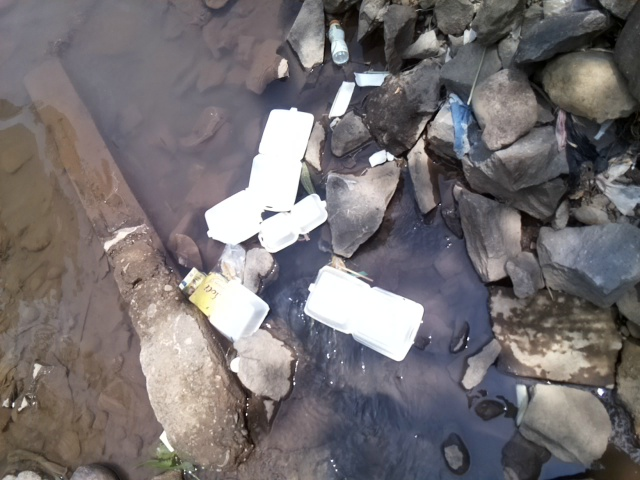Sampah_Botol_Plastik: (325, 18, 353, 67)
Sampah_Styrofoam: (202, 106, 332, 255), (301, 262, 430, 369), (202, 281, 273, 343), (328, 69, 392, 118)
